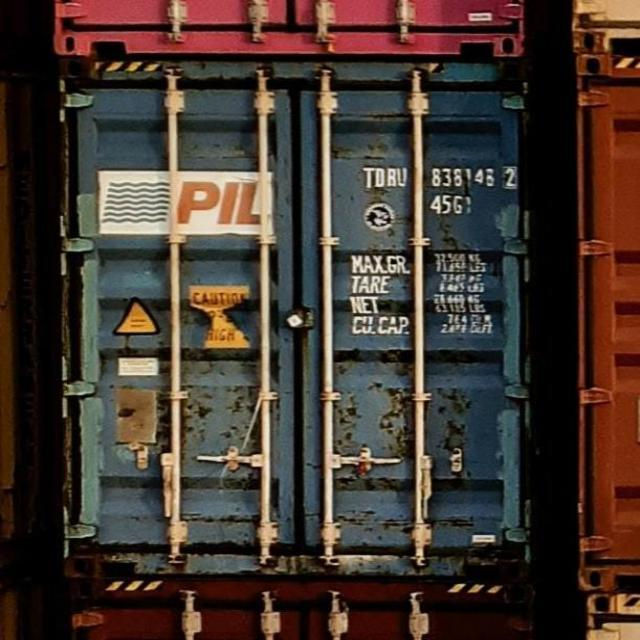ISO: (431, 192, 474, 216)
container_number: (363, 163, 521, 188)
